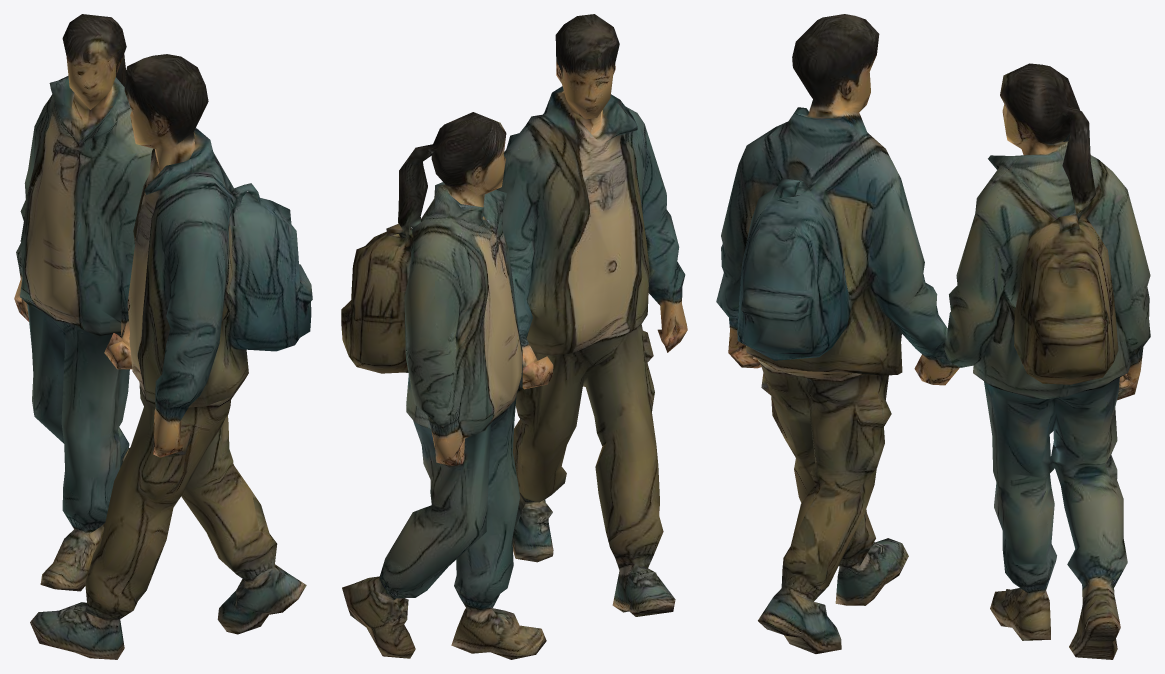
File: demo_couple_shanhai.glb
3 renders of one model, left to right at view 1: azimuth 30°, elevation 25°; view 2: azimuth 150°, elevation 25°; view 3: azimuth 270°, elevation 25°, orthographic. The views are drawn at different scales.
Visible parts, largest first — view 1: tripo_node_fda0c588-6ab1-4a61-82cc-390948009122.001; view 2: tripo_node_fda0c588-6ab1-4a61-82cc-390948009122.001; view 3: tripo_node_fda0c588-6ab1-4a61-82cc-390948009122.001.
Part boxes in pixels (x1,y1,x2,y2): tripo_node_fda0c588-6ab1-4a61-82cc-390948009122.001: (14,14,312,659); tripo_node_fda0c588-6ab1-4a61-82cc-390948009122.001: (341,14,687,659); tripo_node_fda0c588-6ab1-4a61-82cc-390948009122.001: (716,14,1150,659).
Size of the model in its own units: 0.4294 by 1 by 0.6445.
1 material, 1 textured.
